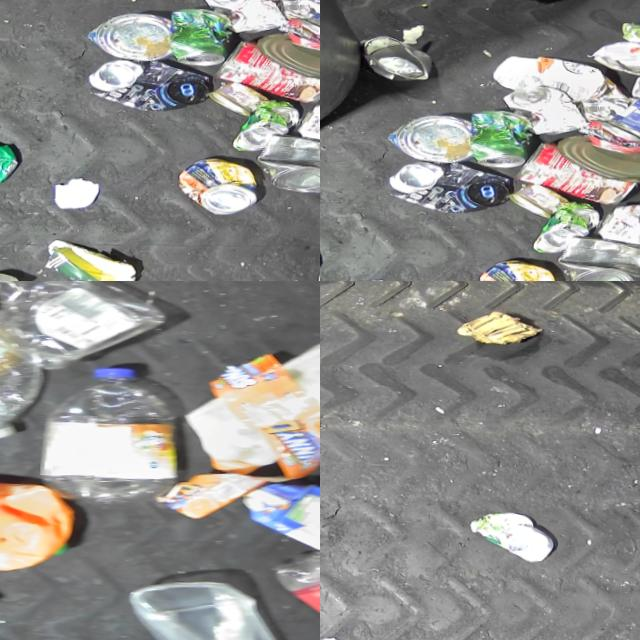can: (515, 132, 640, 204), (88, 50, 214, 112), (388, 152, 514, 214), (215, 30, 320, 102), (179, 151, 263, 213), (501, 80, 592, 135), (87, 6, 175, 60), (387, 108, 475, 162), (557, 126, 640, 181), (557, 227, 640, 281), (257, 125, 320, 191), (169, 4, 235, 65), (469, 106, 535, 167), (356, 30, 432, 81), (233, 95, 304, 149), (533, 197, 604, 251), (257, 24, 320, 79), (201, 0, 291, 32), (605, 71, 640, 150), (210, 75, 272, 115), (510, 177, 572, 217), (598, 195, 640, 252), (479, 253, 563, 281), (590, 33, 640, 74), (298, 93, 320, 150), (0, 136, 22, 187)
milk_jug: (187, 325, 320, 475)
non_white_jug: (0, 464, 90, 576)
plastic_bottle: (35, 358, 202, 503), (0, 304, 55, 444), (269, 543, 320, 640)
